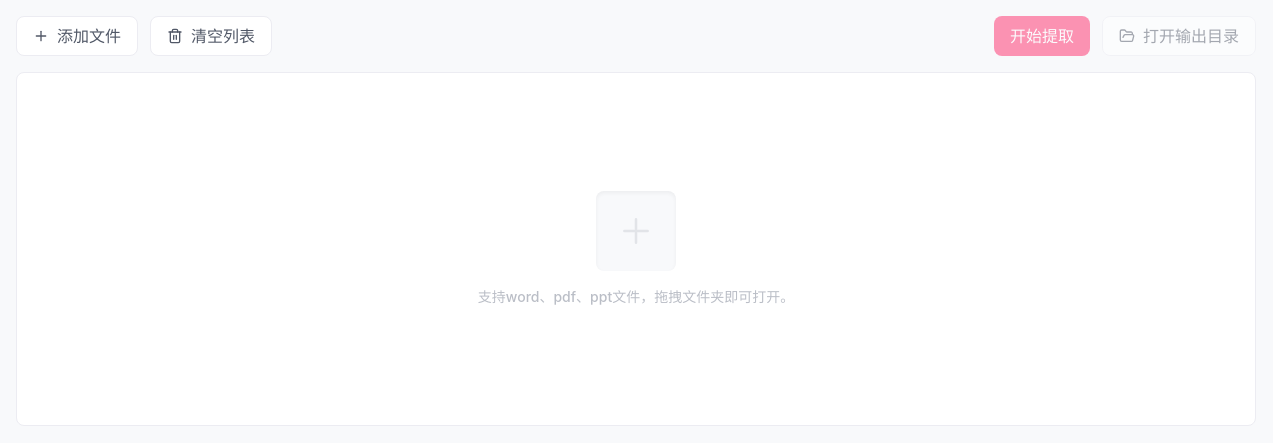
Scenario: ExtractImagePage › imports documents and folders from the single add-file button
Click the button "添加文件".
click(77, 36)  # box [16,16,138,56]
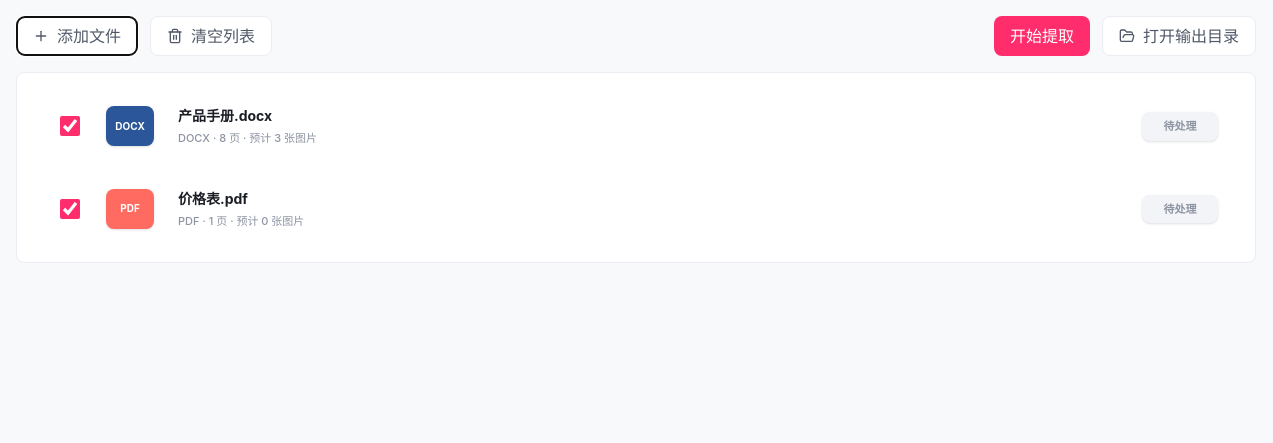
Result: the text "产品手册.docx" is shown at [178,107,272,124]
Result: the text "价格表.pdf" is shown at [178,190,248,206]
Result: the number of checkboxes is 2 at [60,116,80,136]; [60,199,80,219]
